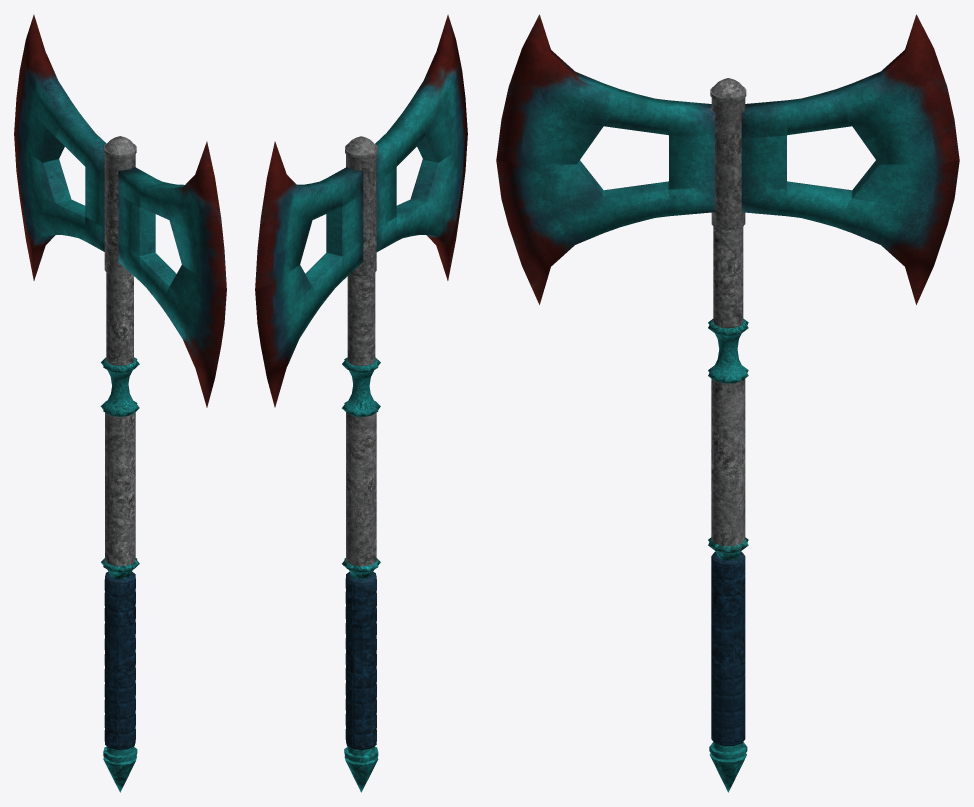
The model's file is Axe.FBX.
3 renders of one model, left to right at view 1: azimuth 30°, elevation 25°; view 2: azimuth 150°, elevation 25°; view 3: azimuth 270°, elevation 25°, orthographic. The views are drawn at different scales.
Parts seen in each view (by area): view 1: Cylinder002; view 2: Cylinder002; view 3: Cylinder002.
Boxes of the visible parts, x1,y1,x2,y2 form: Cylinder002: (14, 14, 226, 792); Cylinder002: (255, 14, 467, 792); Cylinder002: (496, 14, 959, 792).
Bounding box in the file's own units: 17.1 × 343 × 185.
Materials: 1 (1 with a texture image).
